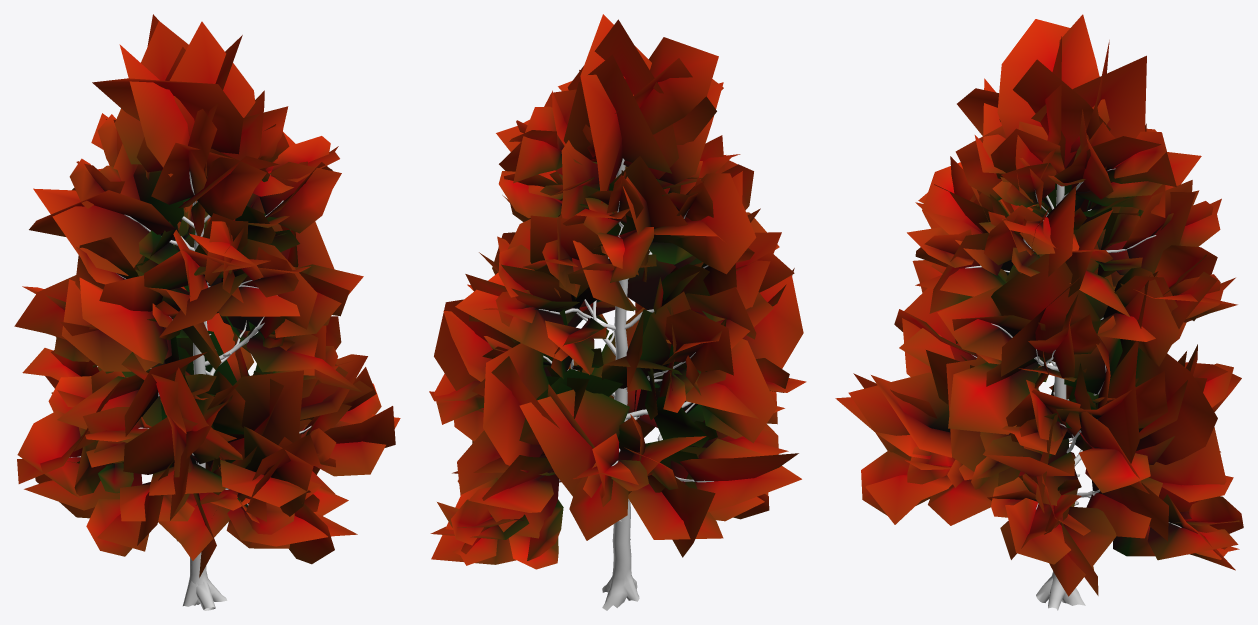
File: ShrubTree(NR)_D.fbx
3 renders of one model, left to right at view 1: azimuth 30°, elevation 25°; view 2: azimuth 150°, elevation 25°; view 3: azimuth 270°, elevation 25°, orthographic. The views are drawn at different scales.
Parts seen in each view (by area): view 1: ShrubTree(NR)_D_Leaves_LOD0, ShrubTree(NR)_D_Bark_LOD0; view 2: ShrubTree(NR)_D_Leaves_LOD0, ShrubTree(NR)_D_Bark_LOD0; view 3: ShrubTree(NR)_D_Leaves_LOD0, ShrubTree(NR)_D_Bark_LOD0.
Part boxes in pixels (box(x1,y1,x2,y2)): ShrubTree(NR)_D_Leaves_LOD0: box(14, 14, 400, 577); ShrubTree(NR)_D_Bark_LOD0: box(69, 171, 311, 610); ShrubTree(NR)_D_Leaves_LOD0: box(429, 14, 806, 569); ShrubTree(NR)_D_Bark_LOD0: box(539, 158, 713, 610); ShrubTree(NR)_D_Leaves_LOD0: box(835, 14, 1243, 596); ShrubTree(NR)_D_Bark_LOD0: box(965, 168, 1181, 610).
Size of what is drawn, in the model's own units: 10.95 by 16.74 by 10.86.
